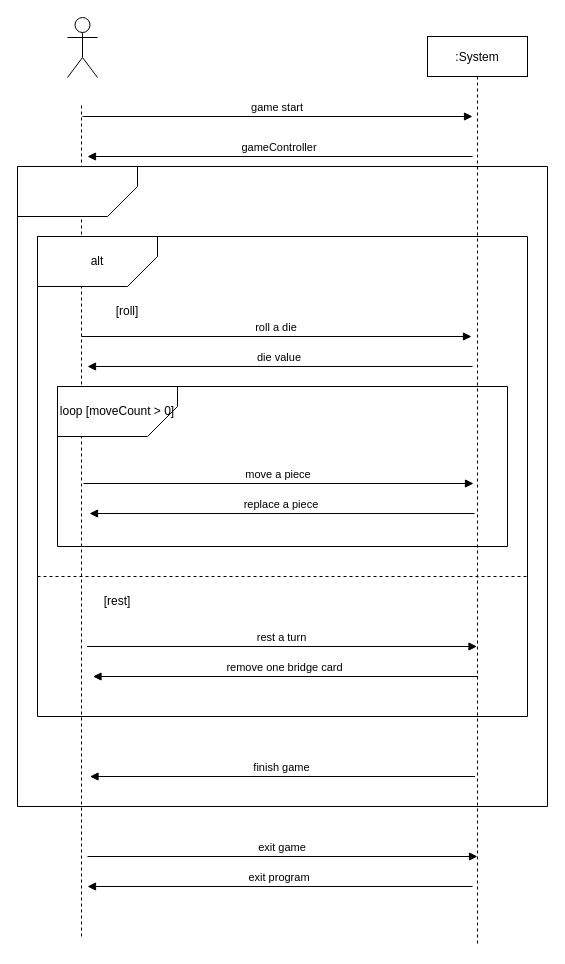
Image size: 565x964. Some labels were removed from this diagram. Each missing label, with the box of its shape:
:Player: (66, 16, 98, 78)
loop [game]: (16, 166, 138, 216)
